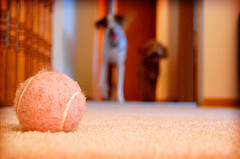tennis ball: (14, 68, 86, 138)
